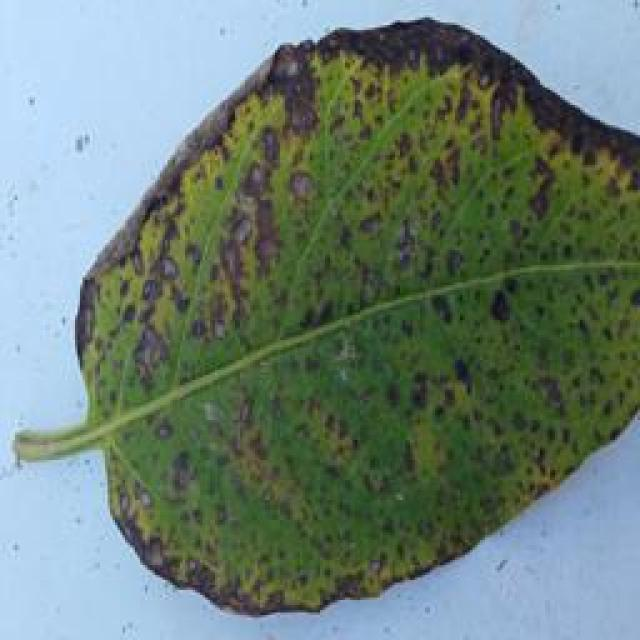Potato_Early_Blight: (70, 12, 640, 638)
